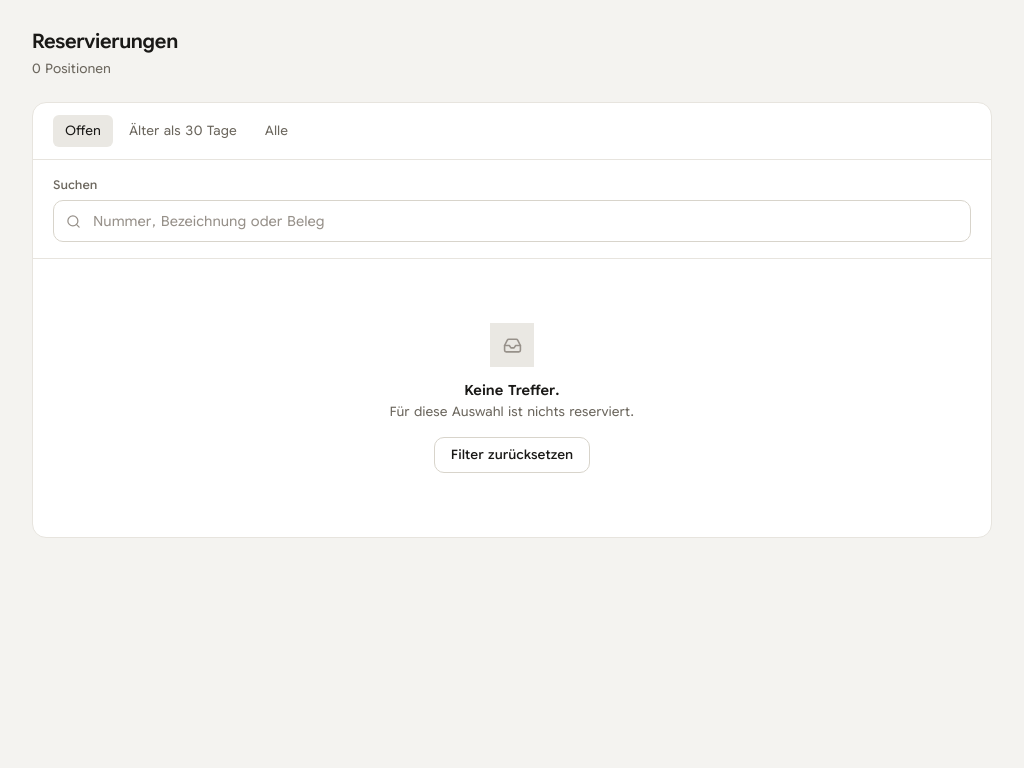
Test: StockReservationListPage › stockReservationListPageBlamesTheDocumentTypesTest
Click the button "Filter zurücksetzen" at (512, 455), box [434,437,590,473]
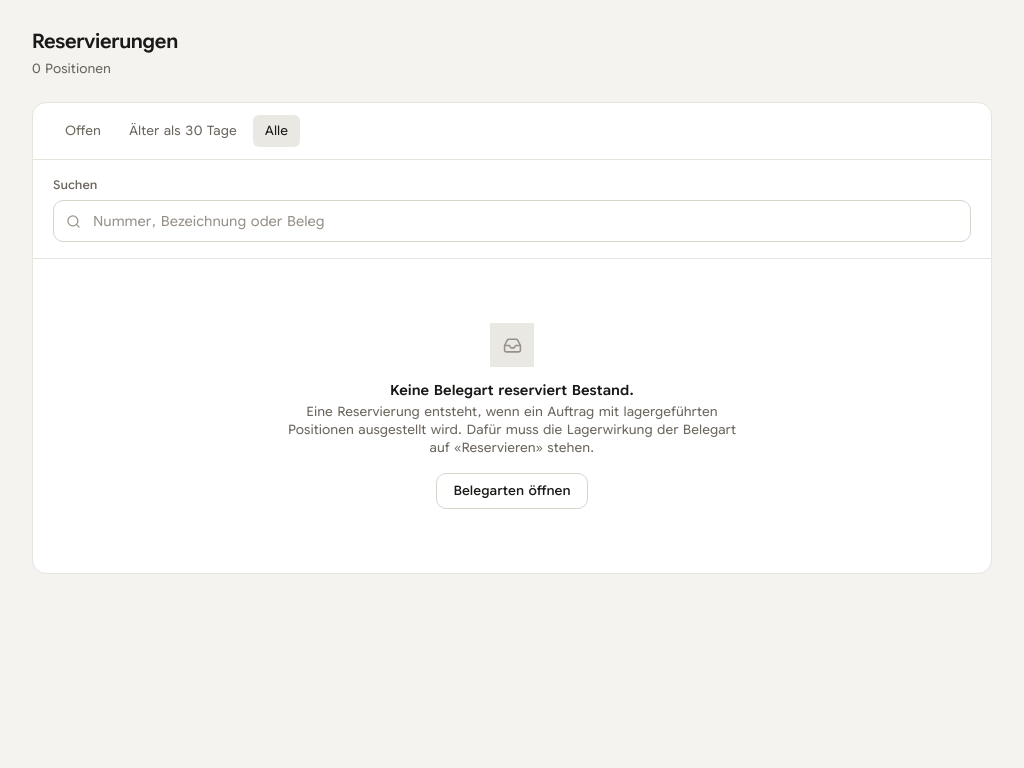
Check: the text "Keine Belegart reserviert Bestand." is shown, box [390,381,634,399]
Check: the link to "/belegarten" is shown, box [436,473,588,509]
